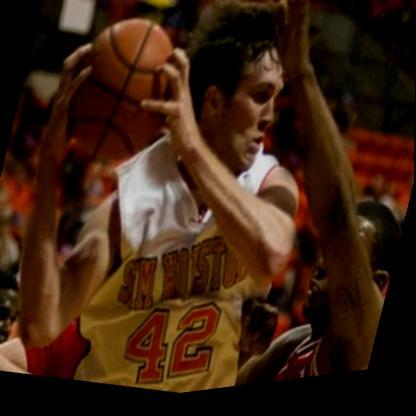basketball: (55, 5, 196, 184)
